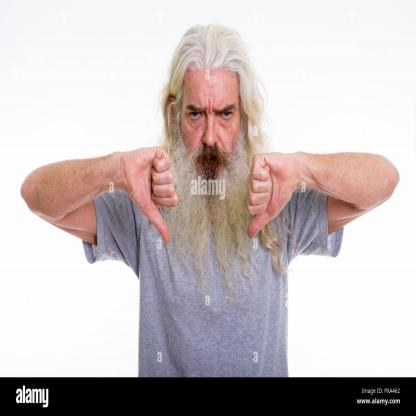Thumbs-Down: (122, 146, 178, 240), (246, 153, 295, 237)
